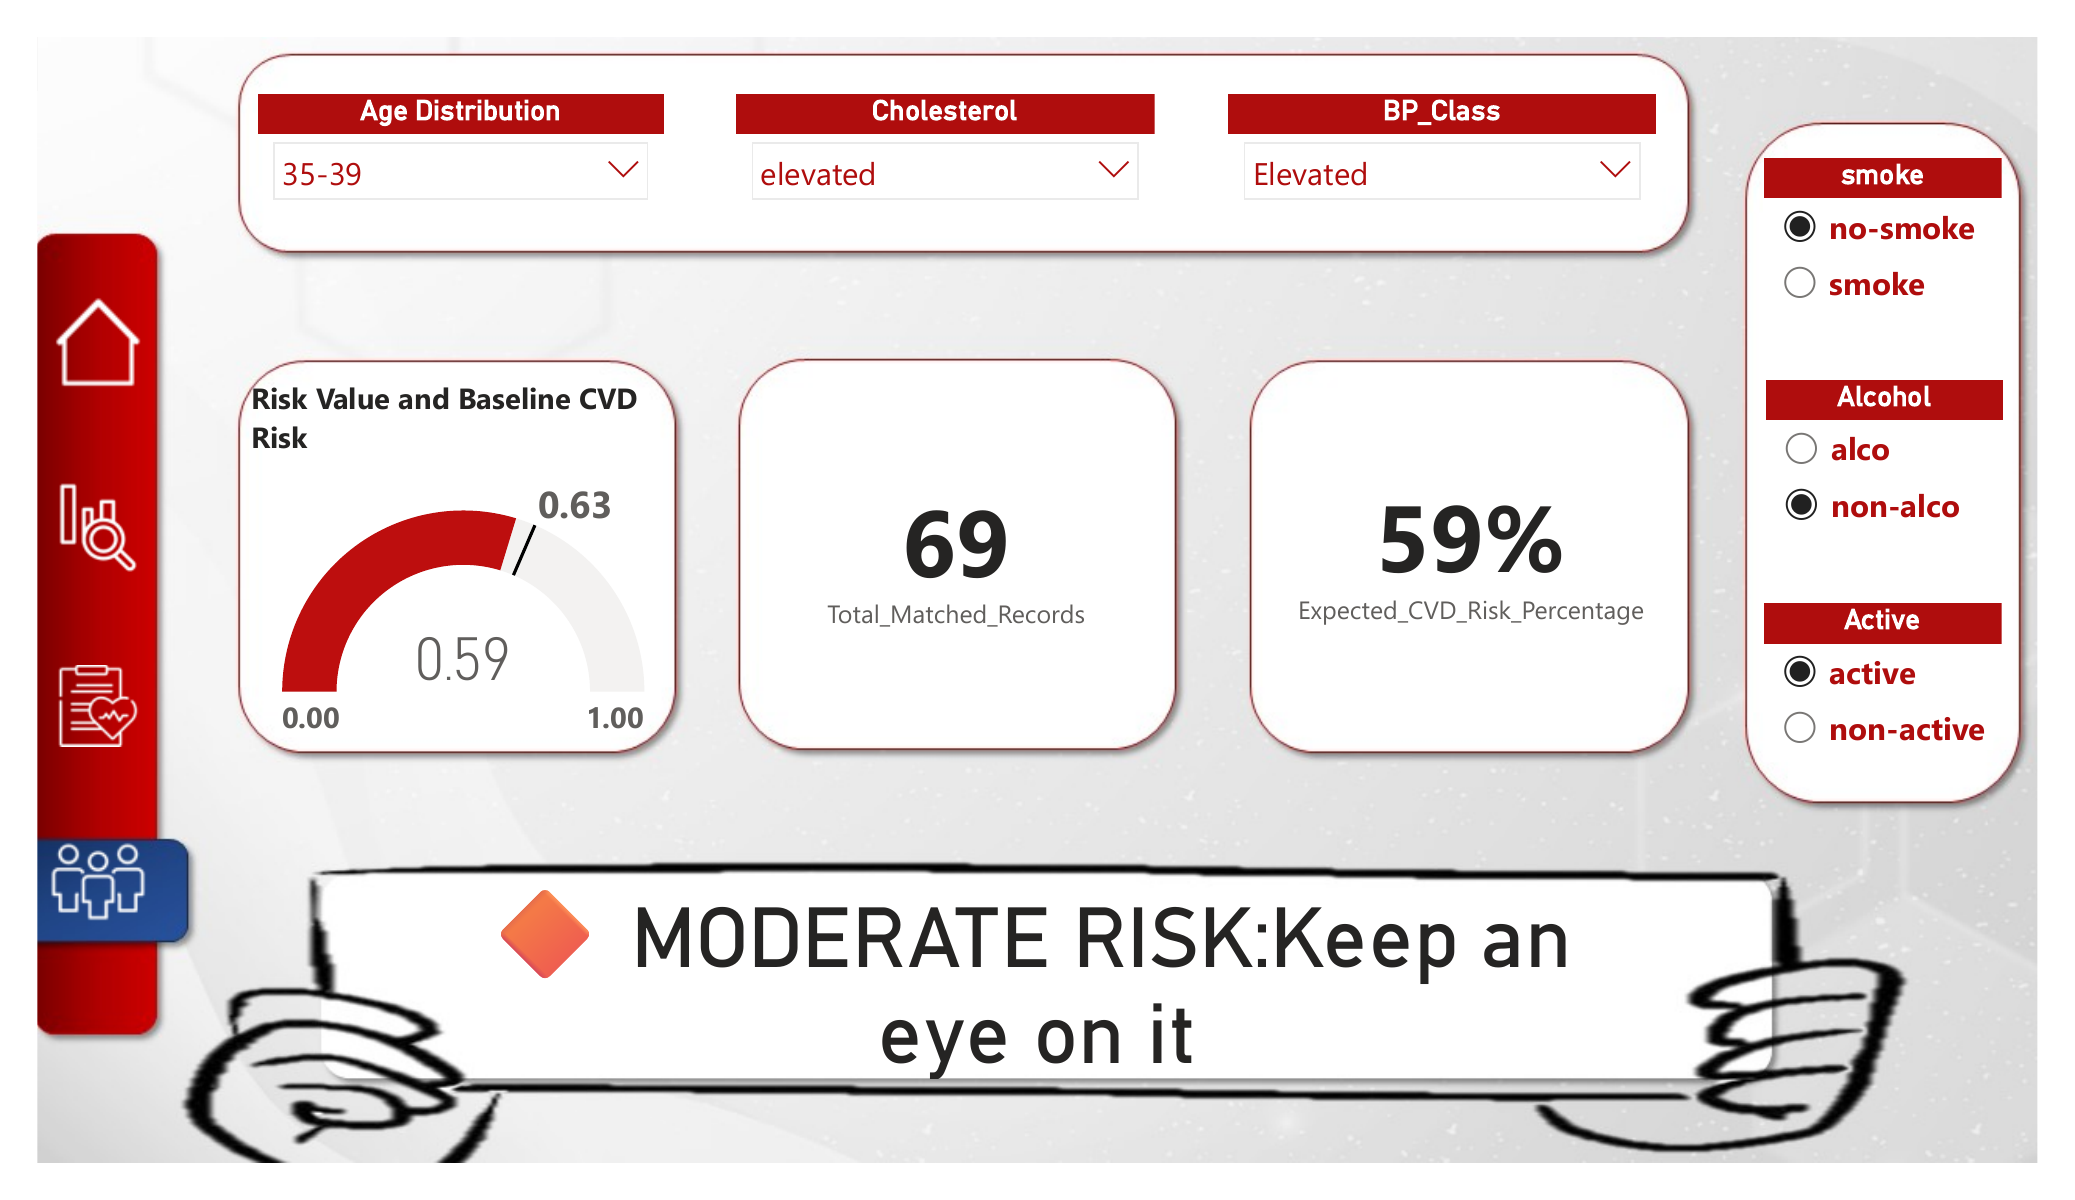

The page's visual inventory and layout, read from the dashboard file:
{"tool":"powerbi","page":{"name":"Detection","canvas":[1280,720],"ordinal":3},"visuals":[{"type":"slicer","title":"Age Distribution","fields":{"Values":["Heart.age_distribution"]},"box":[141.3,35.7,259.3,82.3],"z":1000},{"type":"slicer","title":"Cholesterol","fields":{"Values":["Heart.cholesterol"]},"box":[447.3,35.7,267.6,82.3],"z":2000},{"type":"slicer","title":"BP_Class","fields":{"Values":["Heart.BP_Class"]},"box":[761.6,35.7,274.4,82.3],"z":3000},{"type":"card","fields":{"Values":["Heart.نسبة_الخطورة_المتوقعة"]},"box":[778,204.5,278.6,247],"z":4000},{"type":"card","fields":{"Values":["Heart.Total_Matched_Records"]},"box":[447.3,209.9,281.3,241.5],"z":5000},{"type":"card","fields":{"Values":["Heart.Risk_Guidance_Message"]},"box":[273.1,526.9,720.4,144.1],"z":6000},{"type":"gauge","title":"Risk Value and Baseline CVD Risk","fields":{"TargetValue":["Heart.Baseline_CVD_Risk"],"Y":["Heart.Gauge_Risk_Value"]},"box":[131.7,218.2,281.3,240.1],"z":7000},{"type":"image","box":[5.5,278.5,67.5,70],"z":8000},{"type":"image","box":[3.2,397,72,62],"z":9000},{"type":"image","box":[2.2,160,74,70],"z":10000},{"type":"image","box":[2.3,507.5,73.8,65],"z":11000},{"type":"slicer","title":"smoke","fields":{"Values":["Heart.smoke"]},"box":[1104.8,77.4,152.4,129.8],"z":12000},{"type":"slicer","title":"Active","fields":{"Values":["Heart.active"]},"box":[1104.8,361.9,152.4,131],"z":13000},{"type":"slicer","title":"Alcohol","fields":{"Values":["Heart.alco"]},"box":[1106,219,152.4,131],"z":14000}]}

Visuals, with their boxes on the page's 1280x720 design canvas (x1, y1, x2, y2). These are canvas units, not pixel positions in the 2075x1200 screenshot, which may show the page scaled, cropped or inside an application window:
"Age Distribution" slicer: [141, 36, 401, 118]
"Cholesterol" slicer: [447, 36, 715, 118]
"BP_Class" slicer: [762, 36, 1036, 118]
card - Heart.نسبة_الخطورة_المتوقعة: [778, 204, 1057, 452]
card - Heart.Total_Matched_Records: [447, 210, 729, 451]
card - Heart.Risk_Guidance_Message: [273, 527, 994, 671]
"Risk Value and Baseline CVD Risk" gauge: [132, 218, 413, 458]
image: [6, 278, 73, 348]
image: [3, 397, 75, 459]
image: [2, 160, 76, 230]
image: [2, 508, 76, 572]
"smoke" slicer: [1105, 77, 1257, 207]
"Active" slicer: [1105, 362, 1257, 493]
"Alcohol" slicer: [1106, 219, 1258, 350]
